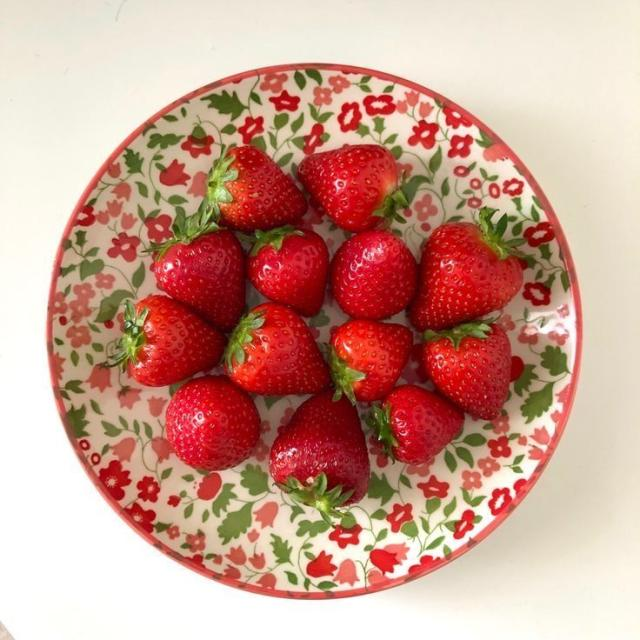strawberry: (410, 208, 523, 331), (270, 392, 370, 520), (151, 211, 245, 331), (112, 295, 226, 386), (225, 303, 330, 395), (298, 145, 408, 232), (167, 376, 260, 471), (201, 147, 306, 231), (423, 321, 511, 419), (331, 231, 417, 319), (367, 386, 464, 464), (247, 226, 329, 316), (329, 320, 413, 402)
